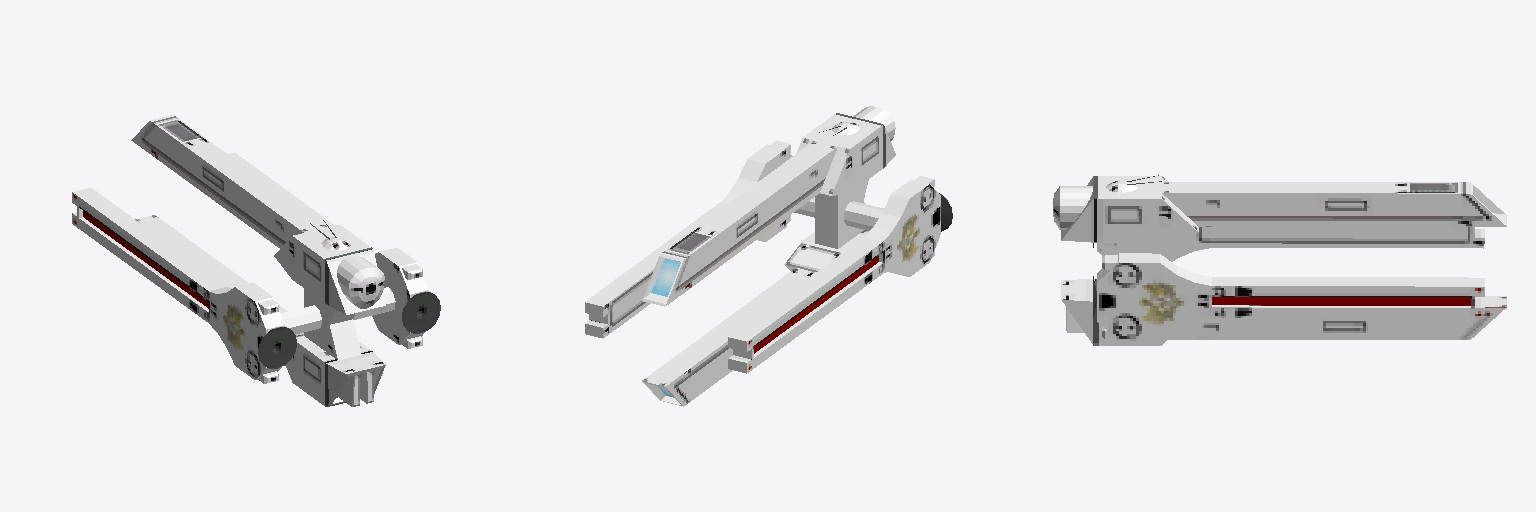
The picture shows the model from 3 angles: view 1: azimuth 30°, elevation 25°; view 2: azimuth 150°, elevation 25°; view 3: azimuth 270°, elevation 25°; orthographic projection.
Parts seen in each view (by area): view 1: empire_walkure; view 2: empire_walkure; view 3: empire_walkure.
Boxes of the visible parts, x1=… form: empire_walkure: x1=72, y1=115, x2=440, y2=406; empire_walkure: x1=585, y1=106, x2=952, y2=406; empire_walkure: x1=1053, y1=175, x2=1506, y2=345.
Bounding box in the file's own units: 7.18 × 5.86 × 15.42.
1 materials, 1 textured.